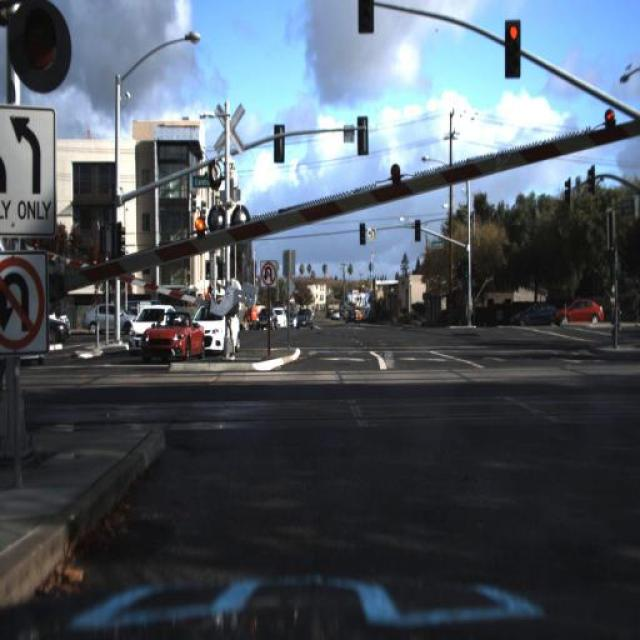car: (142, 306, 206, 360), (76, 302, 142, 342), (196, 308, 242, 357), (511, 294, 564, 334), (124, 305, 162, 353), (553, 293, 605, 328), (555, 292, 601, 328), (503, 301, 559, 328), (36, 316, 70, 346), (44, 316, 68, 352), (292, 304, 314, 331), (253, 307, 275, 333), (348, 300, 367, 330), (46, 310, 74, 330), (270, 305, 286, 336), (252, 305, 270, 327), (339, 300, 350, 326)
trafficLight: (608, 288, 624, 352)
trafficLight-Green: (0, 0, 106, 101), (503, 19, 521, 80), (356, 210, 372, 250), (412, 214, 423, 243)
trafficLight-GreenLeft: (460, 251, 470, 285)
trafficLight-RedLeft: (496, 12, 529, 87)
